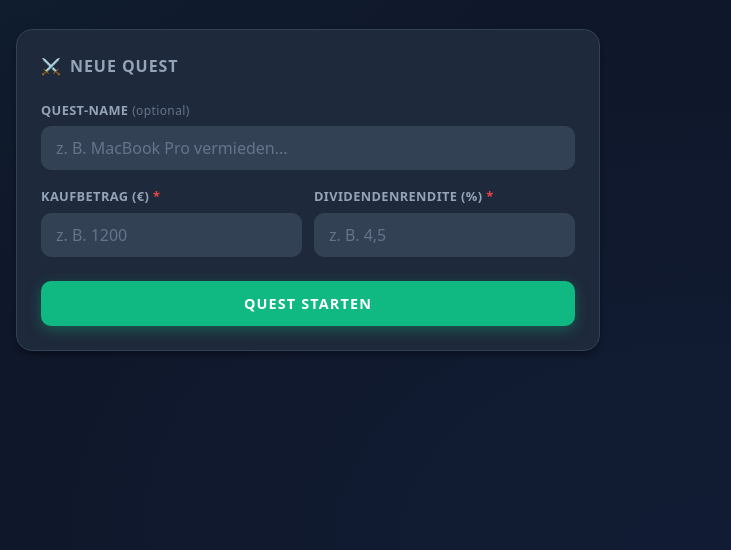
Test: QuestForm › shows validation error when yield is missing
In the field labelled "Kaufbetrag (€) *": (172, 235) [41,213,302,257], type "1000"
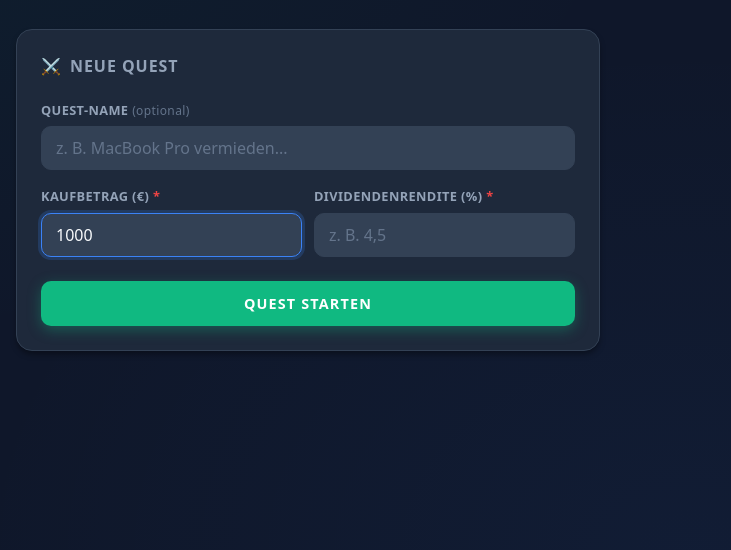
Click the button "Quest starten": (308, 303) [41,281,575,326]
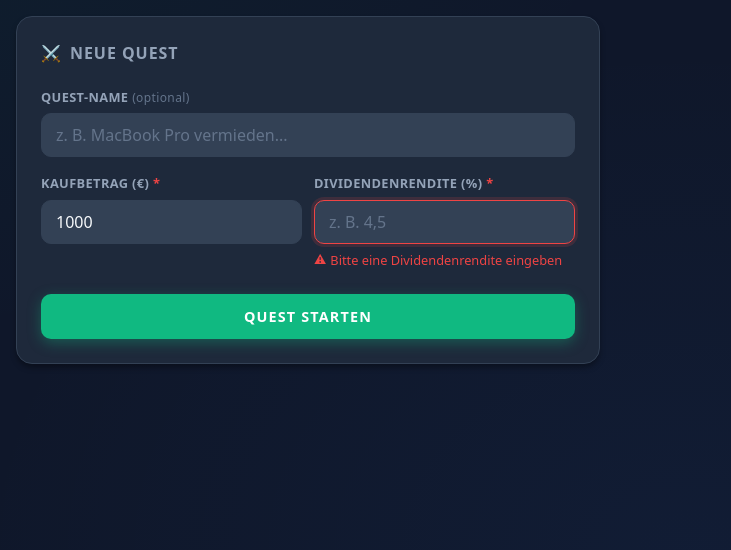
Expected: the text "Bitte eine Dividendenrendite eingeben" is shown, [314,250,575,270]
